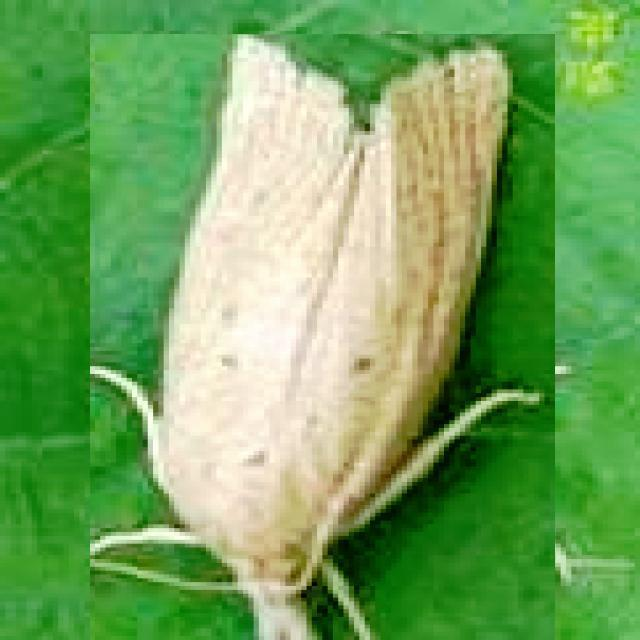stem-borer: (90, 34, 555, 640)
